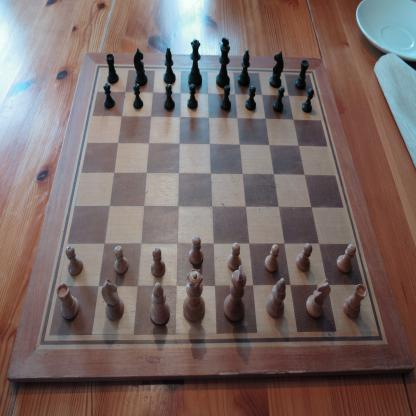black-bishop: (162, 47, 176, 85), (238, 49, 250, 88)
black-king: (215, 37, 231, 88)
black-knight: (133, 47, 148, 86), (269, 50, 284, 89)
black-pawn: (103, 82, 116, 110), (272, 86, 285, 114), (301, 88, 314, 114), (132, 83, 144, 110), (186, 83, 198, 110), (220, 85, 231, 112), (164, 84, 175, 110), (245, 86, 256, 112)
black-queen: (188, 39, 202, 87)
black-rook: (294, 60, 310, 90), (106, 53, 119, 84)
white-bishop: (150, 282, 170, 326), (265, 278, 286, 318)
white-king: (223, 265, 247, 323)
white-knight: (306, 278, 332, 319), (101, 278, 125, 321)
white-pawn: (336, 244, 356, 274), (65, 245, 83, 277), (295, 242, 313, 272), (188, 235, 204, 266), (150, 247, 166, 278), (226, 242, 242, 272), (264, 244, 280, 274), (114, 245, 129, 275)
white-queen: (182, 268, 206, 322)
white-rook: (342, 283, 368, 320), (56, 282, 80, 320)
